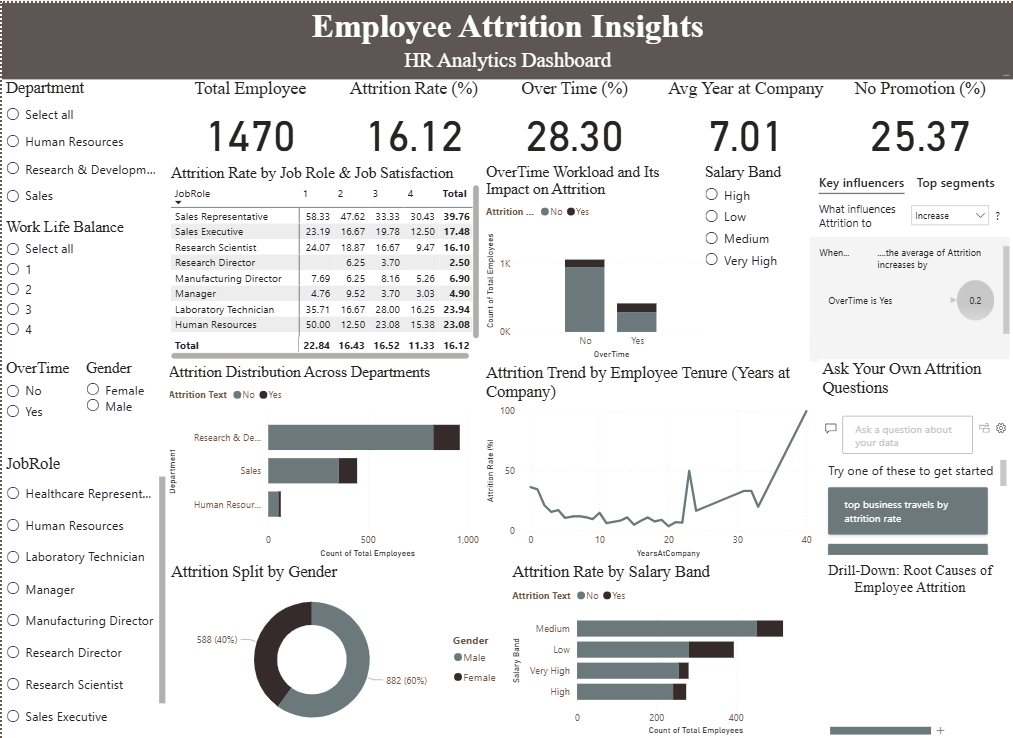

This screenshot's page, from the dashboard's own definition file:
{"tool":"powerbi","page":{"name":"Page 1","canvas":[1303,948],"ordinal":0},"visuals":[{"type":"card","title":"Total Employee","fields":{"Values":["CountNonNull(Attrition_Dashboard_Data.Total Employees)"]},"box":[209.3,96.6,220.6,111.1],"z":0},{"type":"card","title":"Attrition Rate (%)","fields":{"Values":["Attrition_Dashboard_Data.Attrition Rate (%)"]},"box":[429.9,96.6,201.3,111.1],"z":1000},{"type":"card","title":"Over Time (%)","fields":{"Values":["Attrition_Dashboard_Data.OverTime Percentage (%)"]},"box":[631.1,96.6,212.5,111.1],"z":2000},{"type":"card","title":"No Promotion (%)","fields":{"Values":["Attrition_Dashboard_Data.No Promotion Percentage (%)"]},"box":[1062.6,96.6,239.9,111.1],"z":3000},{"type":"card","title":"Avg Year at Company","fields":{"Values":["Avg(Attrition_Dashboard_Data.YearsAtCompany)"]},"box":[843.7,96.6,228.6,111.1],"z":4000},{"type":"barChart","title":"Attrition Distribution Across Departments","fields":{"Category":["Attrition_Dashboard_Data.Department"],"Series":["Attrition_Dashboard_Data.Attrition Text"],"Y":["CountNonNull(Attrition_Dashboard_Data.Total Employees)"]},"box":[209.3,463.7,410.6,256],"z":5000},{"type":"pivotTable","title":"Attrition Rate by Job Role & Job Satisfaction","fields":{"Rows":["Attrition_Dashboard_Data.JobRole"],"Columns":["Attrition_Dashboard_Data.JobSatisfaction"],"Values":["Attrition_Dashboard_Data.Attrition Rate (%)"]},"box":[212.5,207.7,407.3,256],"z":6000},{"type":"columnChart","title":"OverTime Workload and Its Impact on Attrition","fields":{"Category":["Attrition_Dashboard_Data.OverTime"],"Series":["Attrition_Dashboard_Data.Attrition Text"],"Y":["CountNonNull(Attrition_Dashboard_Data.Total Employees)"]},"box":[618.3,206.1,293,257.6],"z":7000},{"type":"barChart","title":"Attrition Rate by Salary Band","fields":{"Category":["Attrition_Dashboard_Data.Salary Band"],"Series":["Attrition_Dashboard_Data.Attrition Text"],"Y":["CountNonNull(Attrition_Dashboard_Data.Total Employees)"]},"box":[652.1,719.7,410.6,228.6],"z":8000},{"type":"donutChart","title":"Attrition Split by Gender","fields":{"Category":["Attrition_Dashboard_Data.Gender"],"Y":["CountNonNull(Attrition_Dashboard_Data.Attrition)"]},"box":[212.5,719.7,439.5,228.6],"z":9000},{"type":"decompositionTreeVisual","title":"Drill-Down: Root Causes of Employee Attrition","fields":{"Analyze":["Attrition_Dashboard_Data.Attrition Rate (%)"],"ExplainBy":["Attrition_Dashboard_Data.Salary Band","Attrition_Dashboard_Data.JobSatisfaction","Attrition_Dashboard_Data.Gender","Attrition_Dashboard_Data.OverTime","Attrition_Dashboard_Data.Department"]},"box":[1036.9,719.7,265.7,228.6],"z":10000},{"type":"keyDriversVisual","fields":{"Target":["Attrition_Dashboard_Data.Attrition"],"ExplainBy":["Attrition_Dashboard_Data.JobSatisfaction","Attrition_Dashboard_Data.OverTime","Attrition_Dashboard_Data.WorkLifeBalance","Attrition_Dashboard_Data.BusinessTravel","Sum(Attrition_Dashboard_Data.YearsSinceLastPromotion)"]},"box":[1035.3,206.1,267.3,260.8],"z":11000},{"type":"qnaVisual","title":"Ask Your Own Attrition Questions","box":[1051.4,458.9,251.2,260.8],"z":12000},{"type":"listSlicer","fields":{"Values":["Attrition_Dashboard_Data.Department"]},"box":[0,96.6,212.5,315.6],"z":13000},{"type":"lineChart","title":"Attrition Trend by Employee Tenure (Years at Company)","fields":{"Category":["Attrition_Dashboard_Data.YearsAtCompany"],"Y":["Attrition_Dashboard_Data.Attrition Rate (%)"]},"box":[618.3,463.7,433.1,256],"z":14000},{"type":"listSlicer","fields":{"Values":["Attrition_Dashboard_Data.Salary Band"]},"box":[900,206.1,136.9,257.6],"z":18000},{"type":"listSlicer","title":"Work Life Balance","fields":{"Values":["Attrition_Dashboard_Data.WorkLifeBalance"]},"box":[0,276.9,215.7,244.7],"z":19000},{"type":"textbox","title":"Employee Attrition Insights  ","box":[0,0,1302.5,98.2],"z":20000},{"type":"listSlicer","fields":{"Values":["Attrition_Dashboard_Data.Gender"]},"box":[103,458.9,109.5,206.1],"z":20500},{"type":"listSlicer","fields":{"Values":["Attrition_Dashboard_Data.OverTime"]},"box":[0,458.9,106.3,247.9],"z":21000},{"type":"listSlicer","fields":{"Values":["Attrition_Dashboard_Data.JobRole"]},"box":[0,581.2,215.7,367.1],"z":21500}]}

Visuals, with their boxes in screenshot pixels (x1, y1, x2, y2), scaled from the page's 1303x948 canvas onto the 1013x738 screenshot:
"Total Employee" card: 163:75:334:162
"Attrition Rate (%)" card: 334:75:491:162
"Over Time (%)" card: 491:75:656:162
"No Promotion (%)" card: 826:75:1012:162
"Avg Year at Company" card: 656:75:834:162
"Attrition Distribution Across Departments" barChart: 163:361:482:560
"Attrition Rate by Job Role & Job Satisfaction" pivotTable: 165:162:482:361
"OverTime Workload and Its Impact on Attrition" columnChart: 481:160:708:361
"Attrition Rate by Salary Band" barChart: 507:560:826:737
"Attrition Split by Gender" donutChart: 165:560:507:737
"Drill-Down: Root Causes of Employee Attrition" decompositionTreeVisual: 806:560:1012:737
keyDriversVisual - Attrition_Dashboard_Data.Attrition x Attrition_Dashboard_Data.JobSatisfaction: 805:160:1012:363
"Ask Your Own Attrition Questions" qnaVisual: 817:357:1012:560
listSlicer - Attrition_Dashboard_Data.Department: 0:75:165:321
"Attrition Trend by Employee Tenure (Years at Company)" lineChart: 481:361:817:560
listSlicer - Attrition_Dashboard_Data.Salary Band: 700:160:806:361
"Work Life Balance" listSlicer: 0:216:168:406
"Employee Attrition Insights  " textbox: 0:0:1012:76
listSlicer - Attrition_Dashboard_Data.Gender: 80:357:165:518
listSlicer - Attrition_Dashboard_Data.OverTime: 0:357:83:550
listSlicer - Attrition_Dashboard_Data.JobRole: 0:452:168:737
